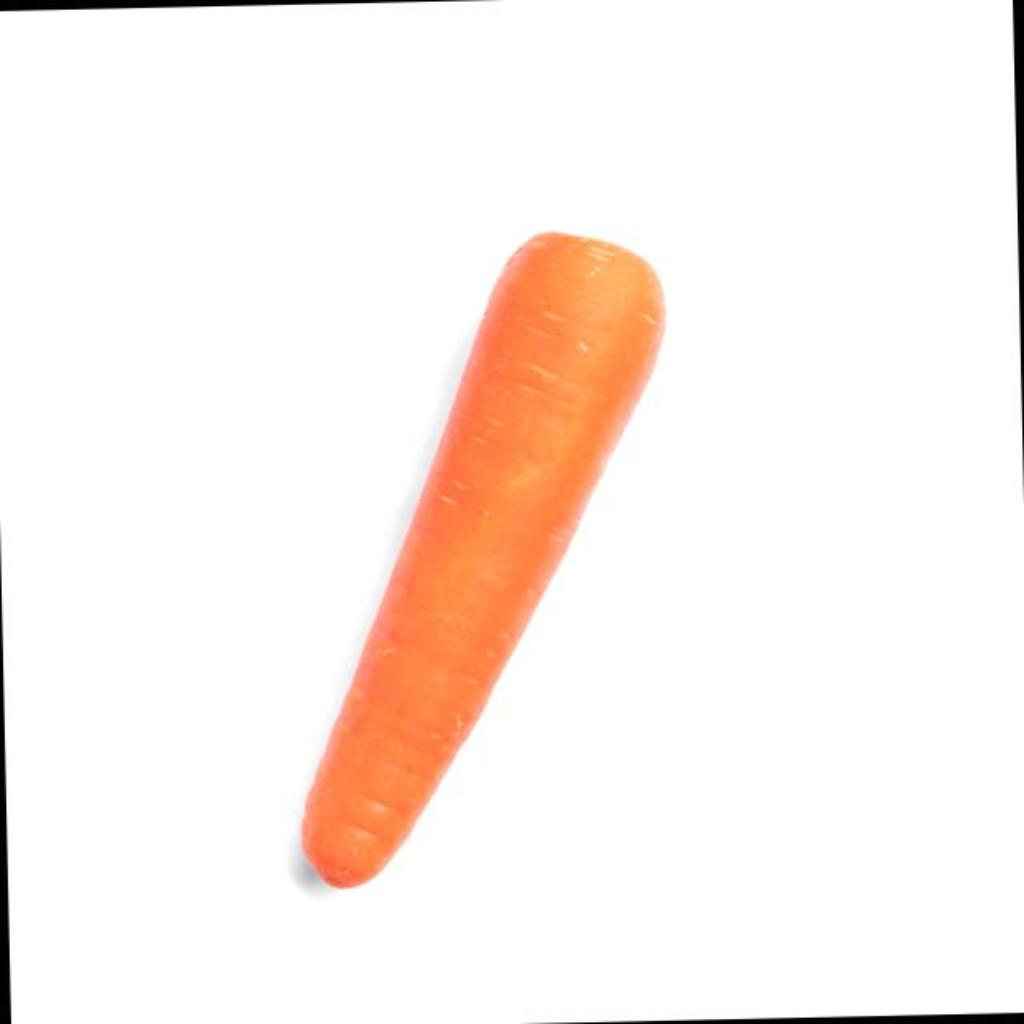carrot: (302, 234, 664, 886)
